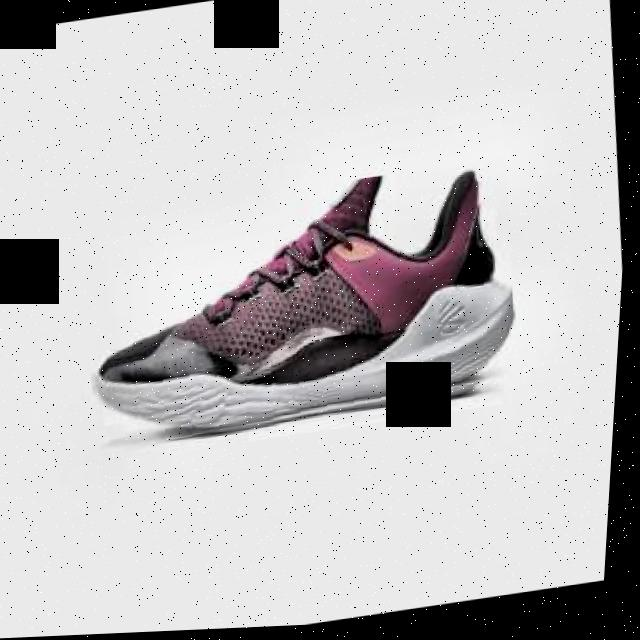shoe: (76, 161, 533, 455)
